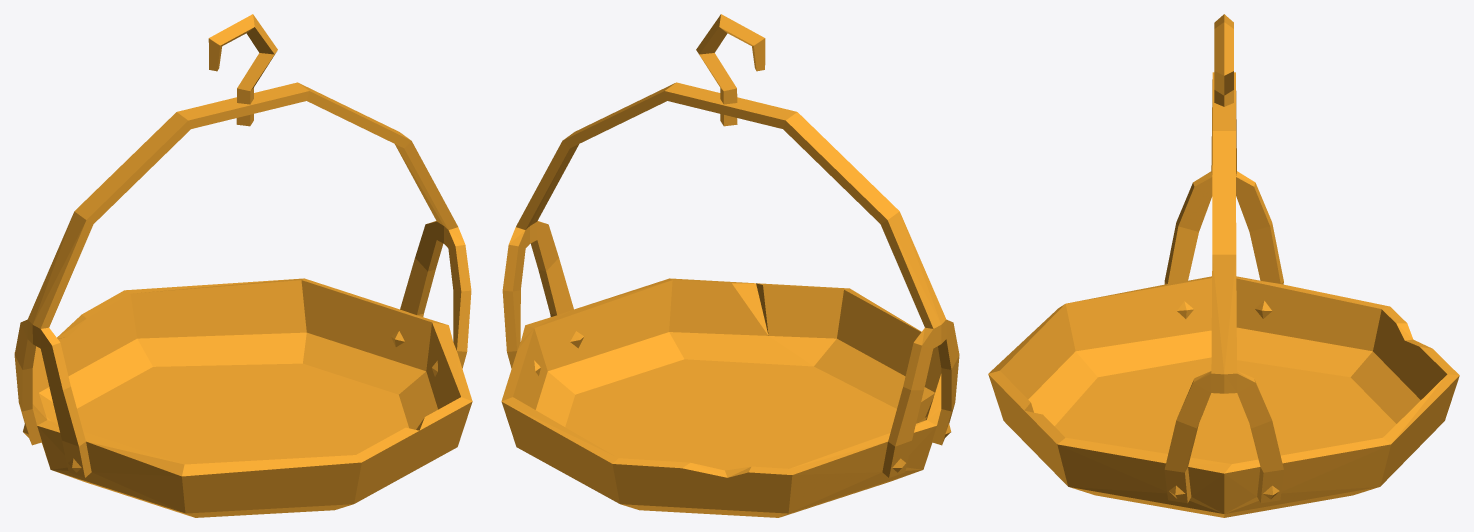
Rendered from SM_Kitchen_Kettle_A_Fantasy.fbx.
3 views of the same model, side by side, from view 1: azimuth 30°, elevation 25°; view 2: azimuth 150°, elevation 25°; view 3: azimuth 270°, elevation 25° (orthographic).
Parts seen in each view (by area): view 1: kitchen-kettle-a-fantasy; view 2: kitchen-kettle-a-fantasy; view 3: kitchen-kettle-a-fantasy.
Boxes of the visible parts, bbox=[...] form: kitchen-kettle-a-fantasy: bbox=[14, 14, 472, 517]; kitchen-kettle-a-fantasy: bbox=[501, 14, 959, 517]; kitchen-kettle-a-fantasy: bbox=[988, 14, 1459, 517].
Bounding box in the file's own units: 0.4236 × 0.4108 × 0.4145.
